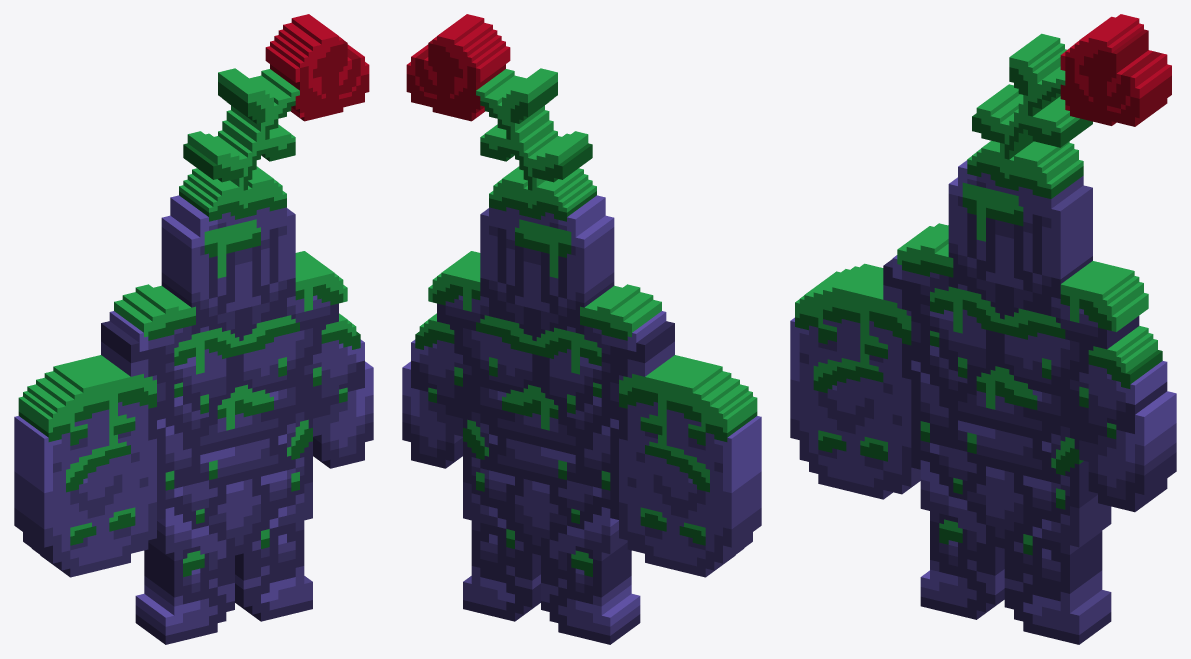
Rendered from soldier2.obj.
3 views of the same model, side by side, from view 1: azimuth 30°, elevation 25°; view 2: azimuth 150°, elevation 25°; view 3: azimuth 330°, elevation 25° (orthographic). The views are drawn at different scales.
Size of the model in its own units: 76 by 125 by 12.
